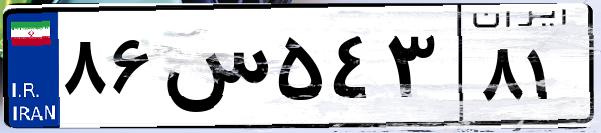1: (525, 38, 570, 115)
3: (385, 28, 445, 110)
4: (330, 28, 385, 110)
5: (270, 28, 330, 110)
6: (110, 28, 158, 98)
8: (57, 26, 110, 100), (475, 38, 525, 113)
س: (158, 20, 270, 120)
